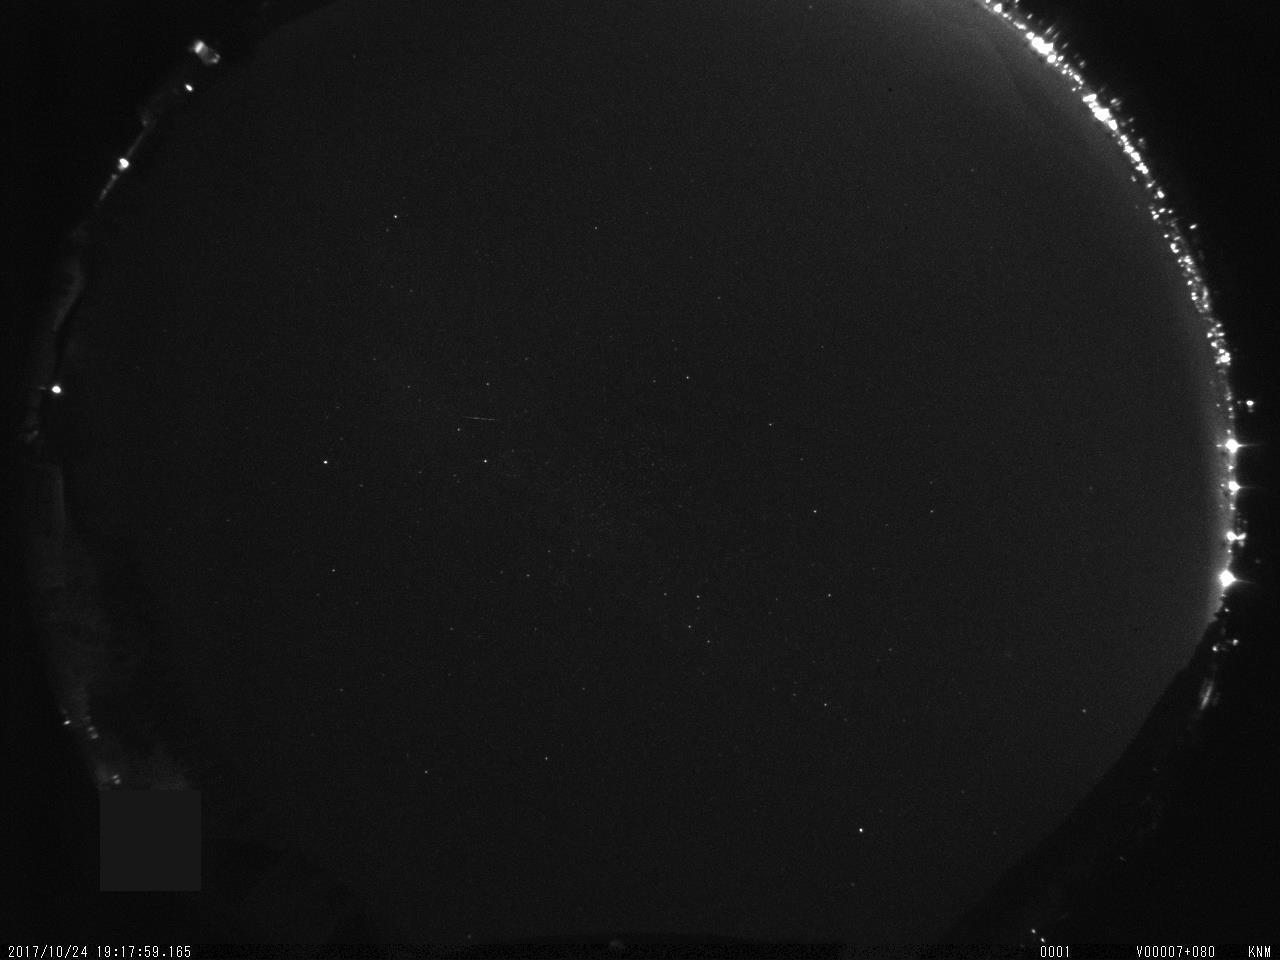Meteor: (460, 410, 504, 429)
